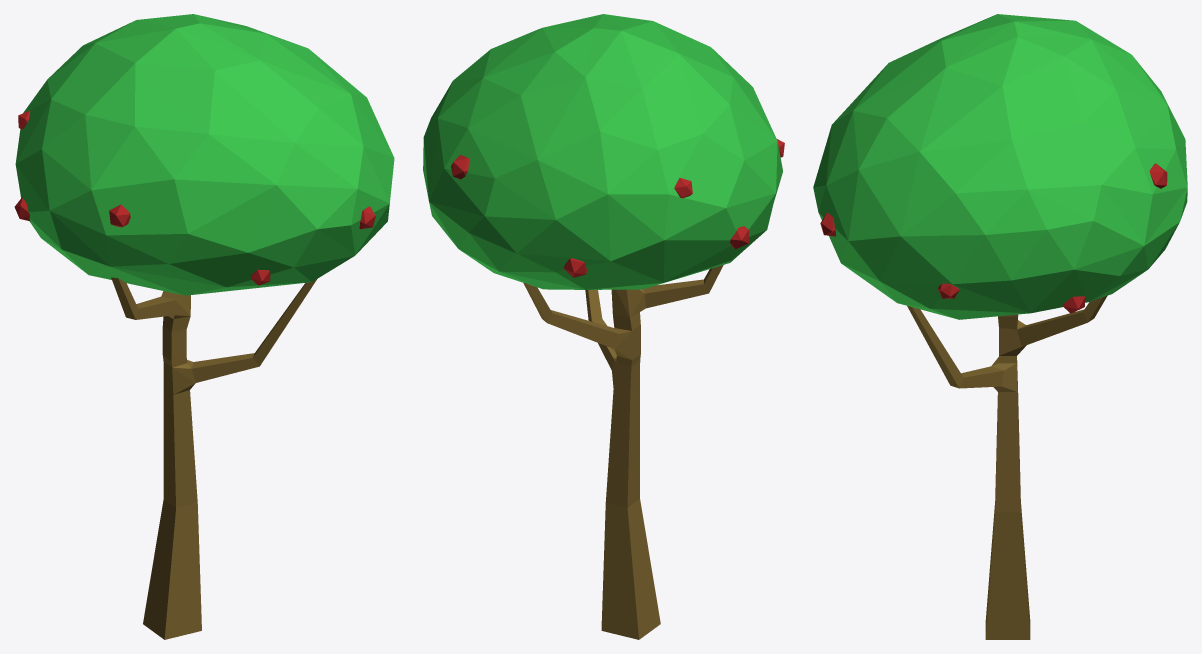
The model's file is AppleTree.fbx.
3 renders of one model, left to right at view 1: azimuth 30°, elevation 25°; view 2: azimuth 150°, elevation 25°; view 3: azimuth 270°, elevation 25°, orthographic. The views are drawn at different scales.
Visible parts, largest first — view 1: AppleTree; view 2: AppleTree; view 3: AppleTree.
Part boxes in pixels (x1,y1,x2,y2): AppleTree: (14,14,394,639); AppleTree: (423,14,784,639); AppleTree: (813,14,1187,639).
Size of the model in its own units: 488 by 864 by 479.
